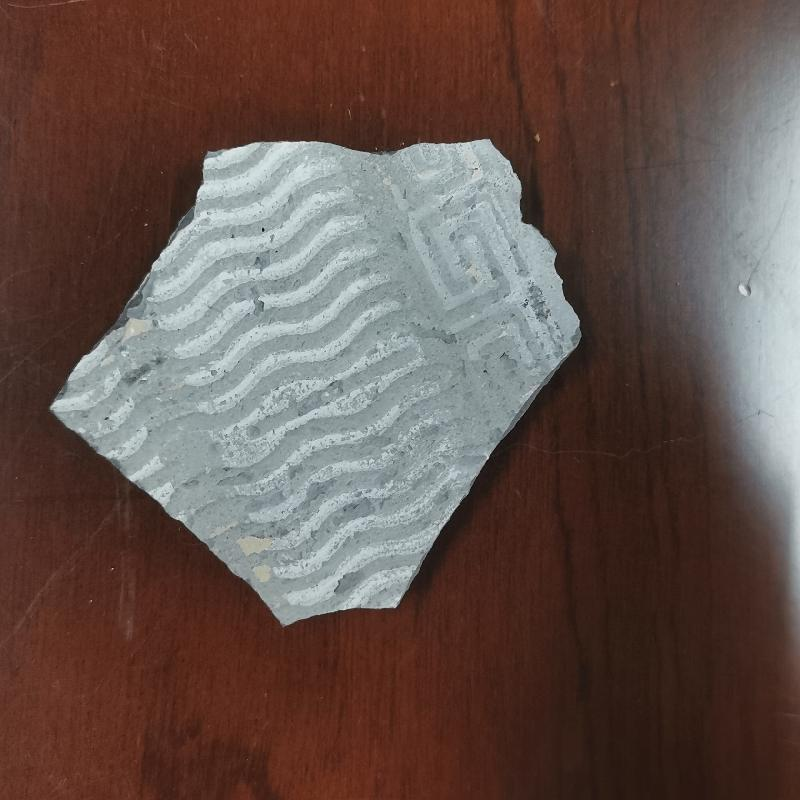tile: (40, 129, 587, 624)
